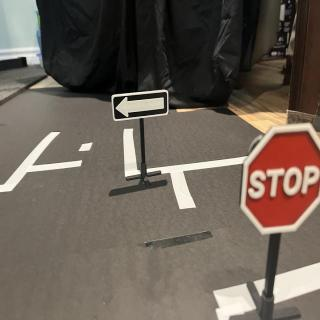sign_oneway_left: (113, 90, 170, 122)
sign_stop: (243, 123, 320, 234)
